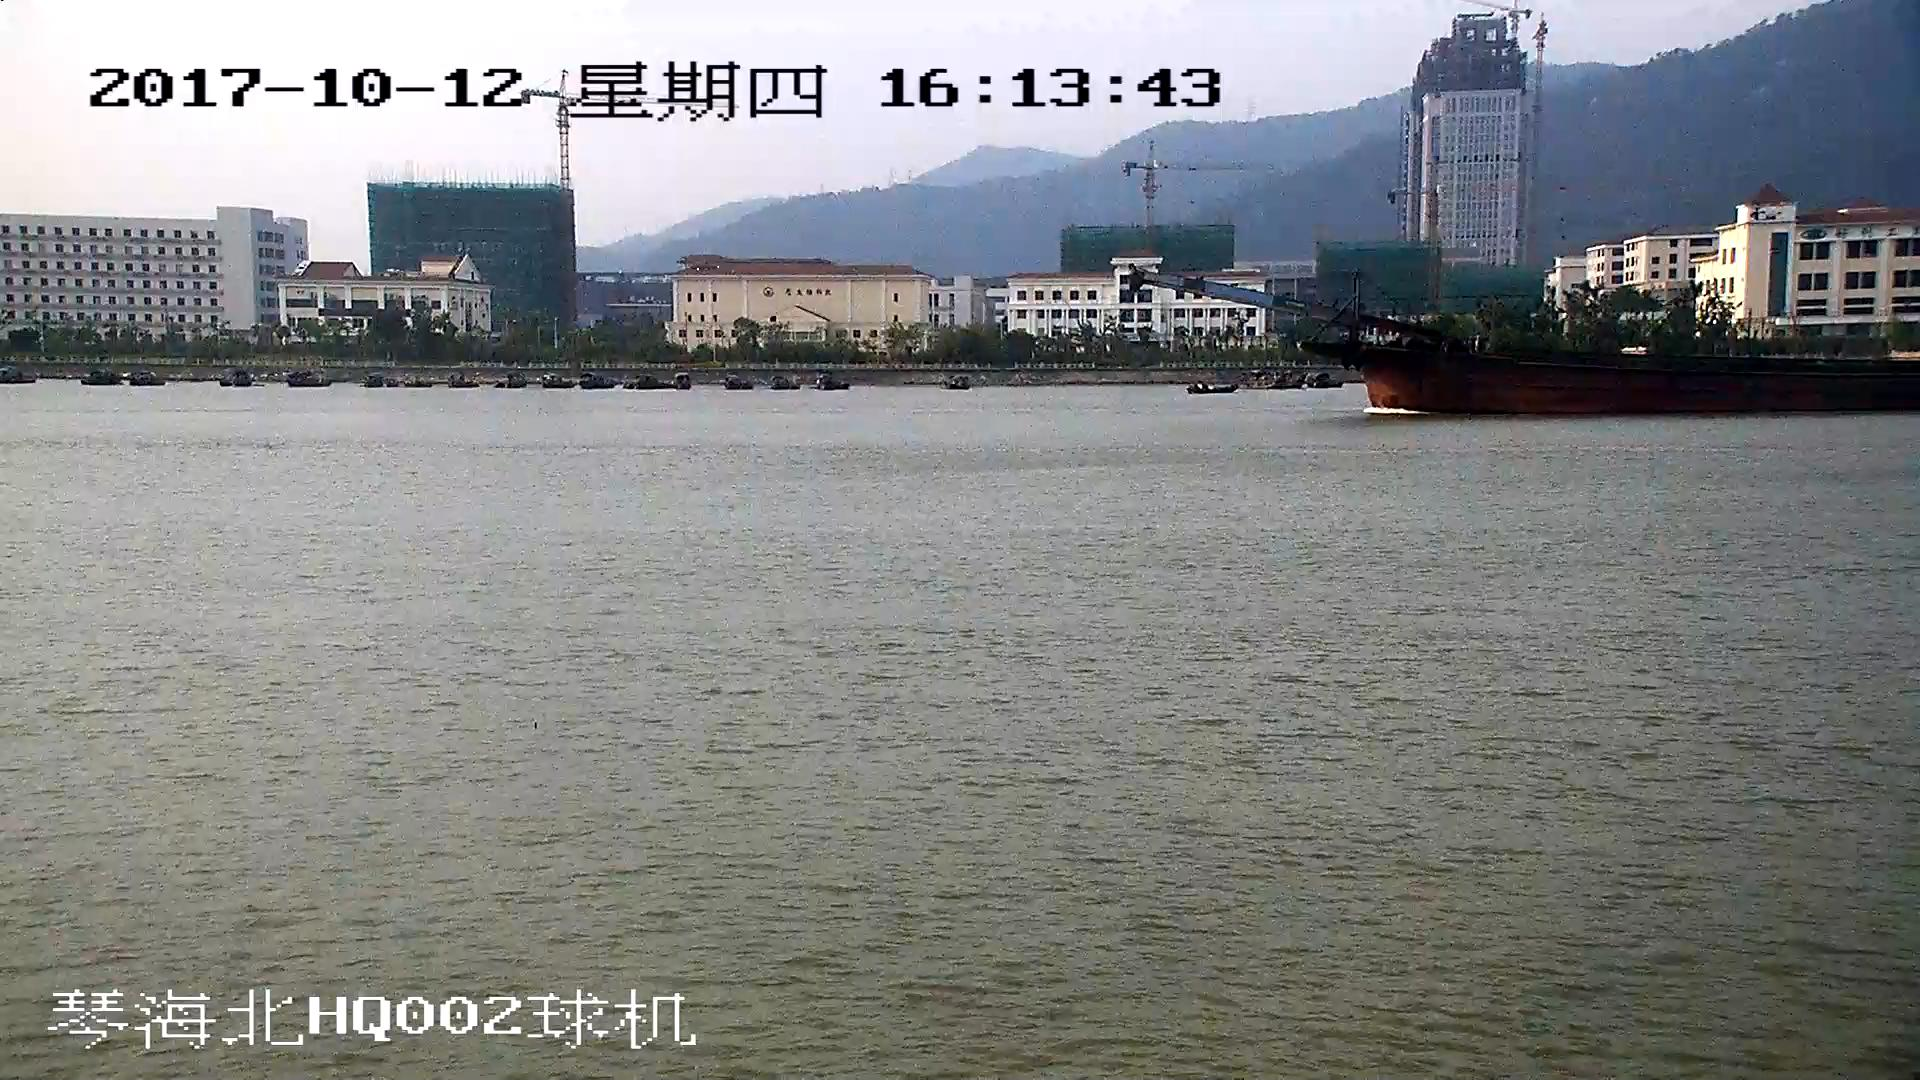bulk cargo carrier: (1138, 276, 1920, 413)
